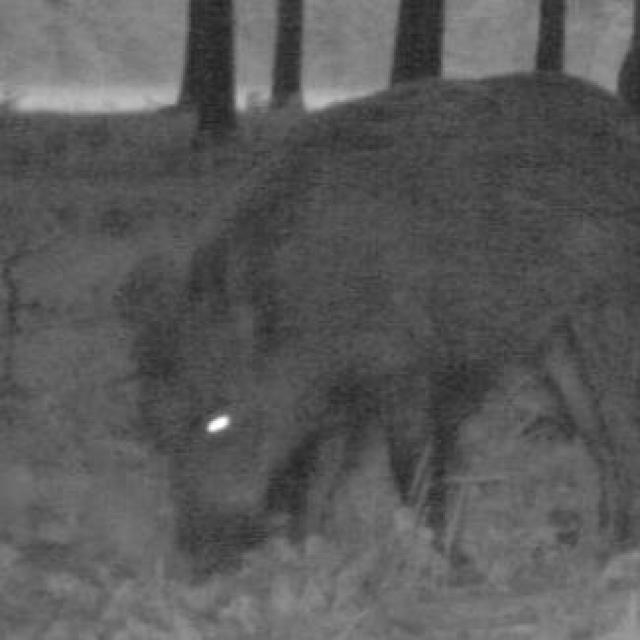pig: (124, 54, 640, 588)
